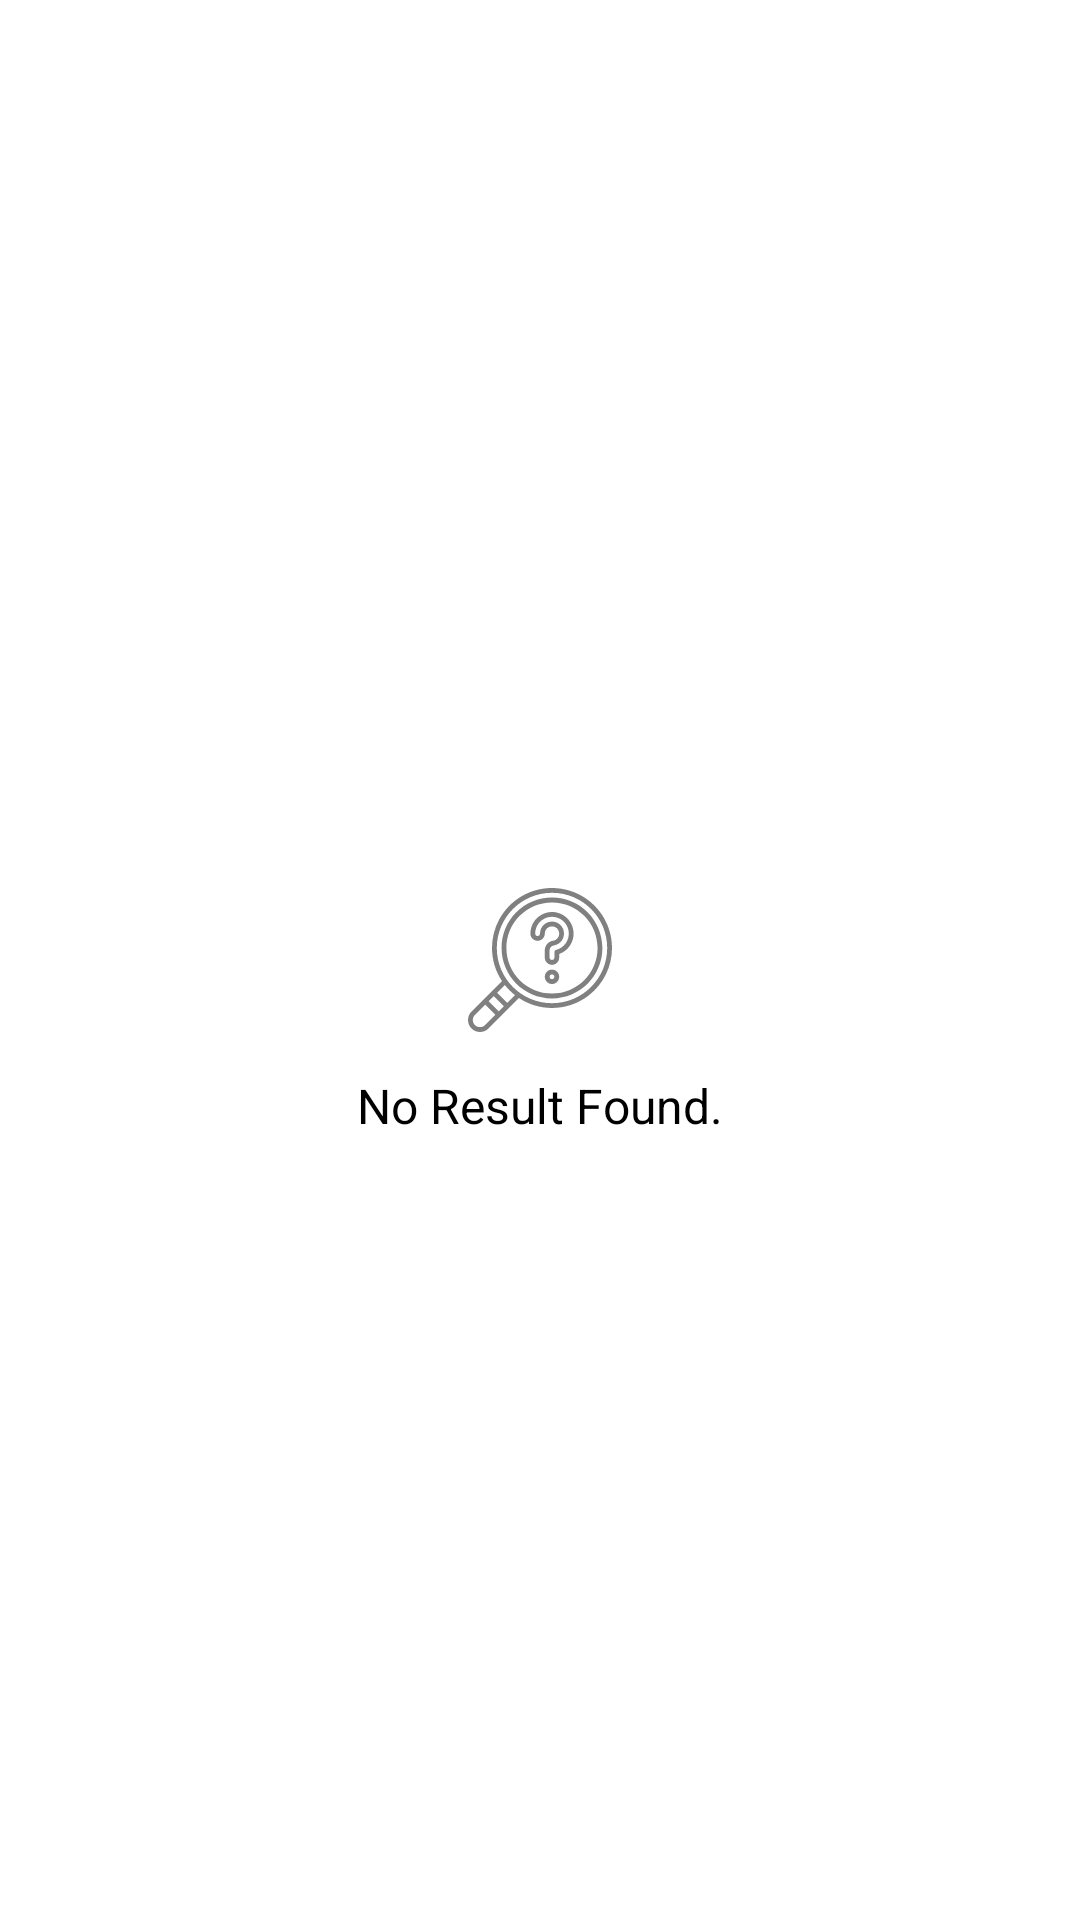

Icon click points for this 1080×1920 phone screenshot, format [x,y]:
no result search: [540,960]
